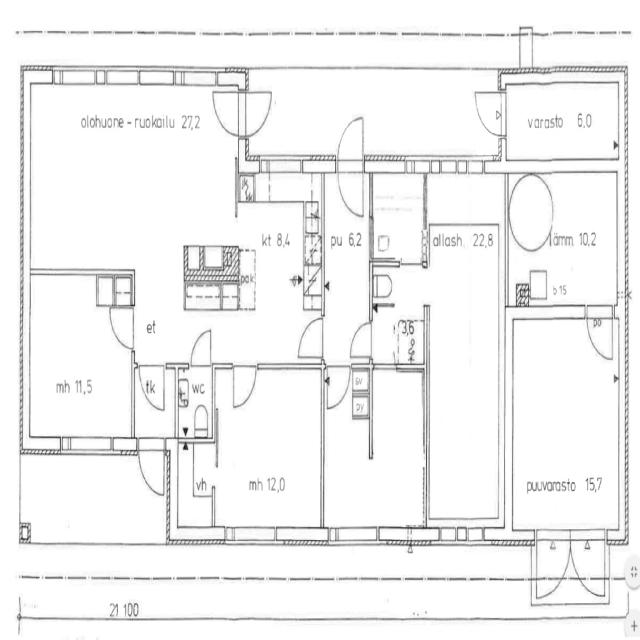door: (335, 111, 367, 216), (136, 436, 168, 500), (584, 304, 616, 364), (136, 360, 168, 417), (473, 86, 505, 138), (244, 86, 274, 138), (295, 313, 326, 361), (323, 360, 351, 413), (212, 84, 240, 136), (231, 359, 258, 412), (108, 303, 136, 352), (347, 316, 376, 363), (187, 324, 215, 370)
window: (61, 432, 115, 457), (256, 355, 316, 377), (330, 524, 380, 548), (228, 525, 278, 549), (53, 62, 99, 88), (434, 523, 486, 545), (262, 153, 304, 175), (180, 66, 218, 88), (378, 522, 412, 546), (138, 64, 175, 86), (104, 64, 140, 86), (611, 90, 622, 148)
zone: (27, 77, 240, 270), (215, 364, 325, 536), (27, 274, 134, 444), (508, 167, 620, 307), (239, 173, 321, 364), (502, 76, 620, 166), (321, 169, 371, 366), (370, 265, 427, 370), (370, 166, 427, 266), (169, 439, 216, 538), (177, 366, 214, 442)
